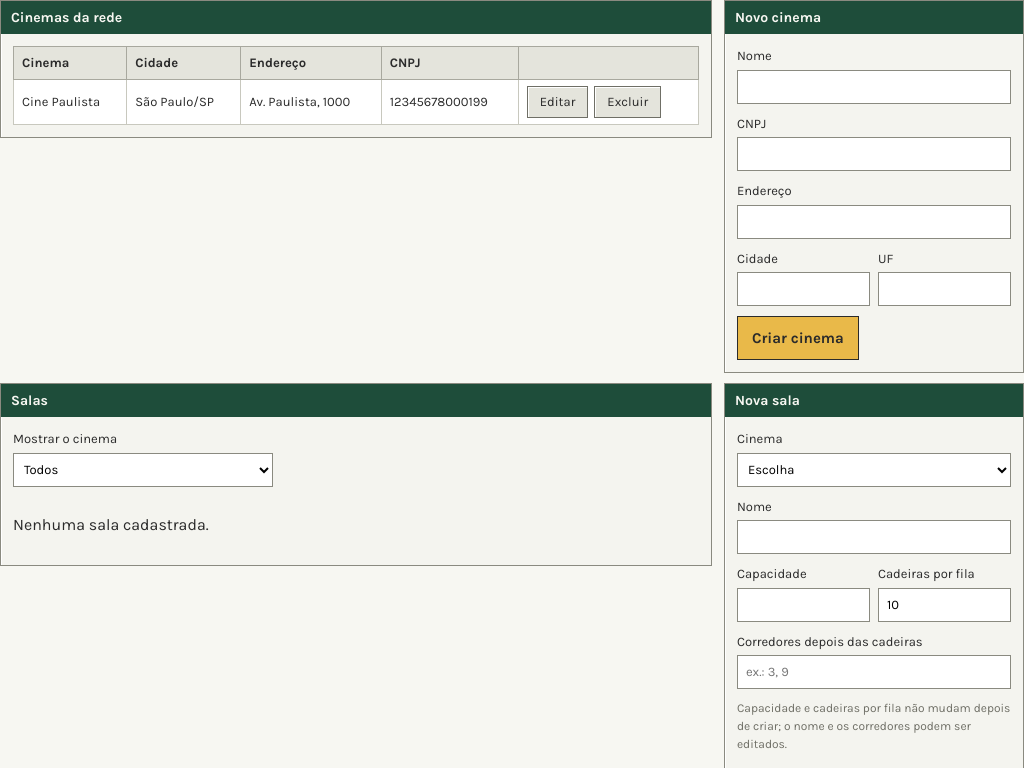
cinemas e salas › mostra o conflito da API ao excluir cinema com sessões
Click the button "Excluir" at (628, 102), box [594,86,661,118]
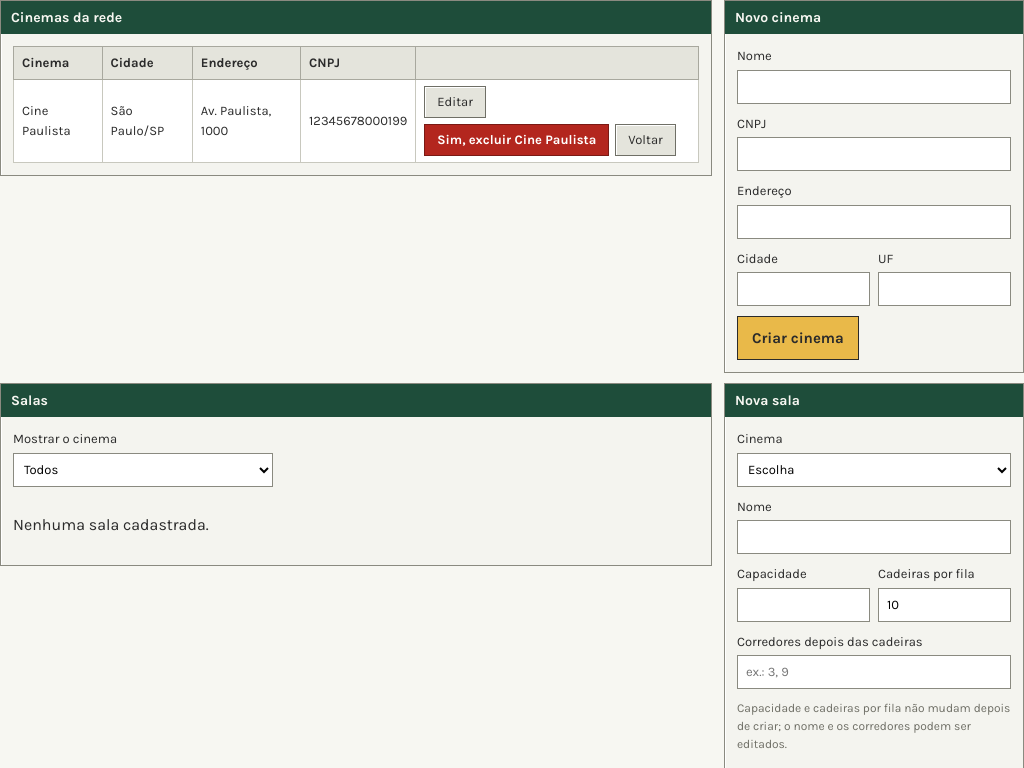
Click the button "Sim, excluir Cine Paulista" at (517, 140), box [424,124,609,156]
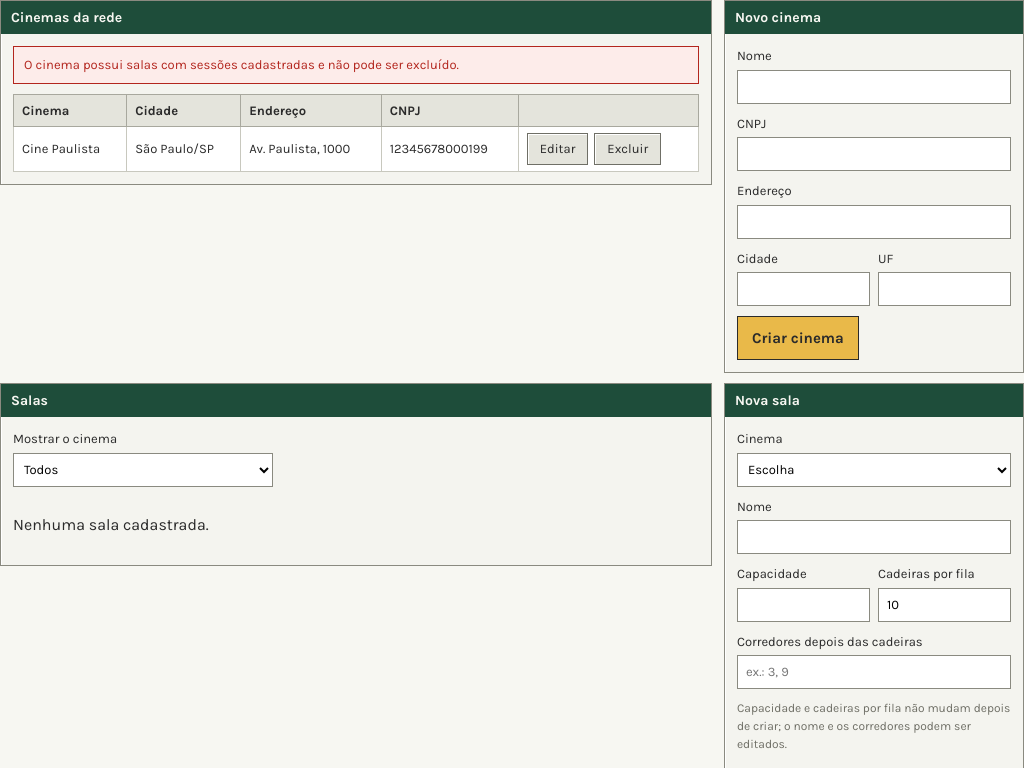
Check: the message shows "possui salas com sessões", box [24,57,459,72]
